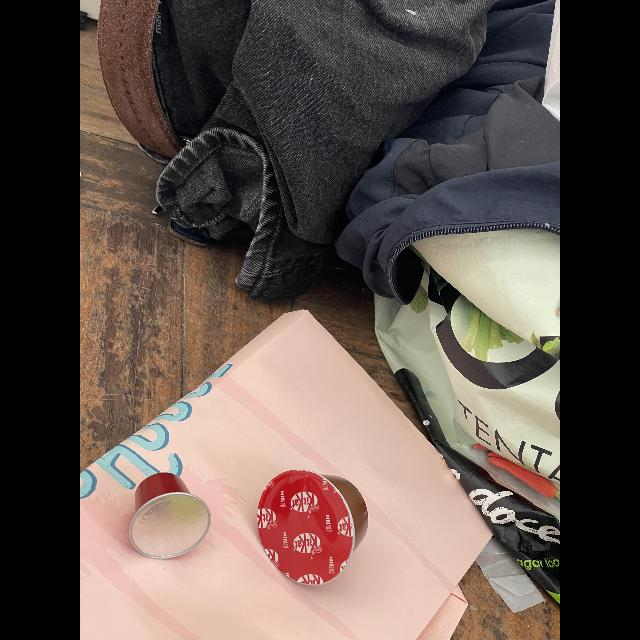intact_capsule: (255, 462, 371, 590), (125, 471, 215, 564)
